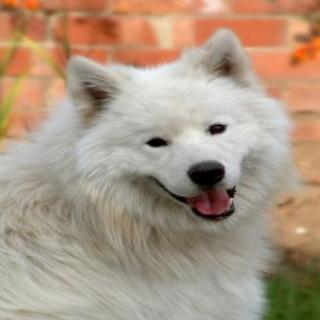dog: (50, 40, 302, 239)
nose: (188, 158, 231, 194)
